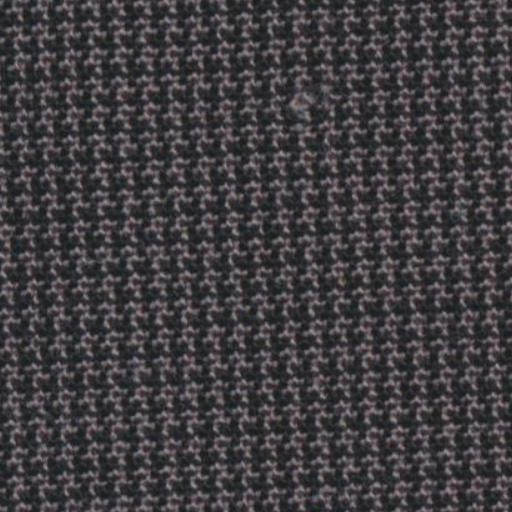PoDong: (272, 78, 341, 130)
